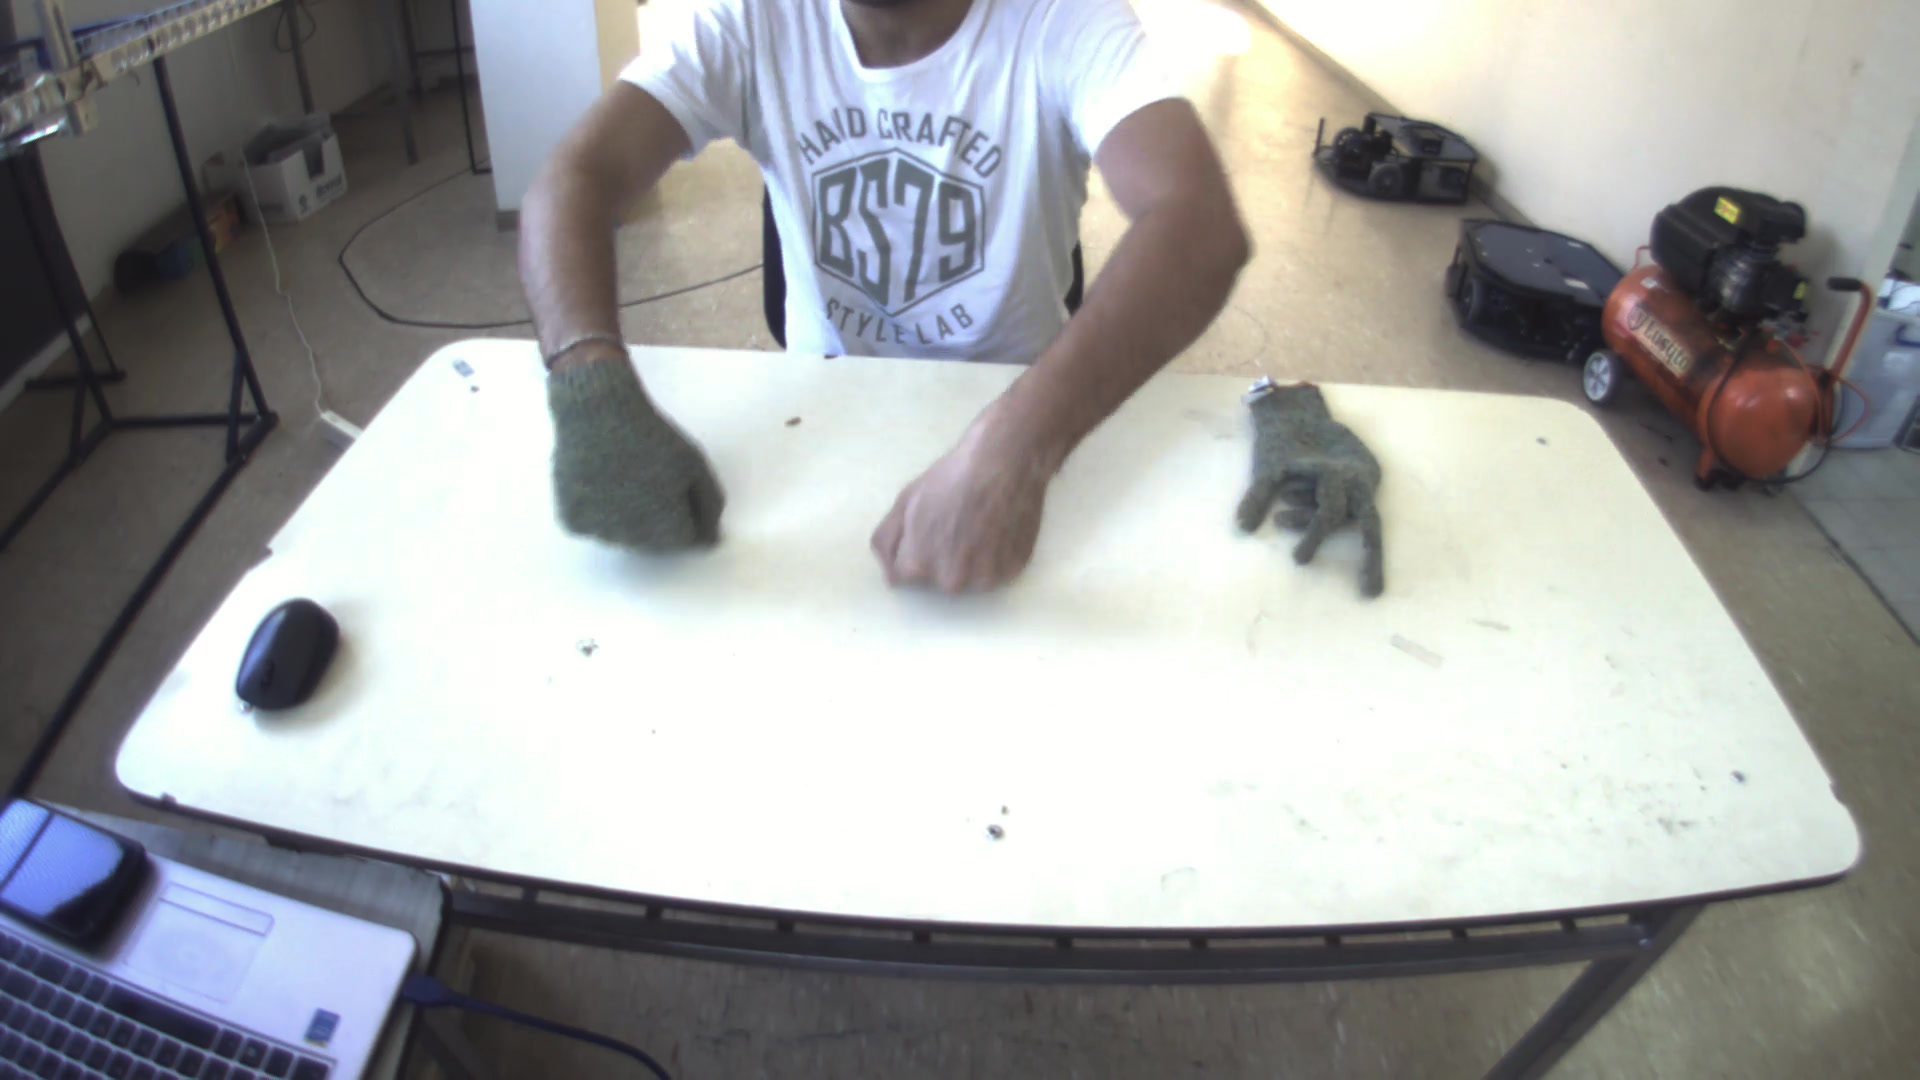hand: (535, 342, 720, 554), (866, 402, 1048, 589)
